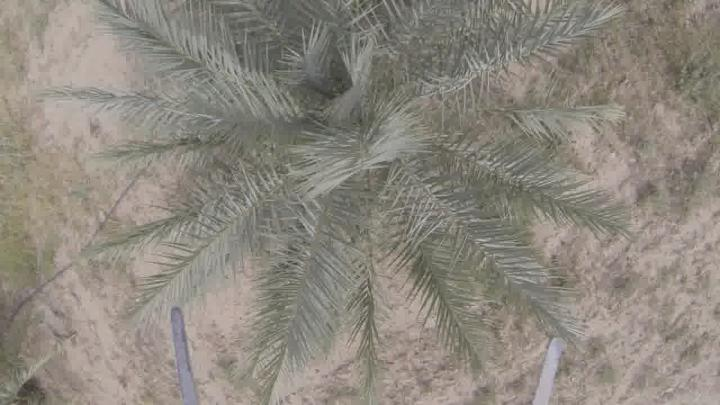Date-Palm-Crown: (228, 0, 500, 266)
